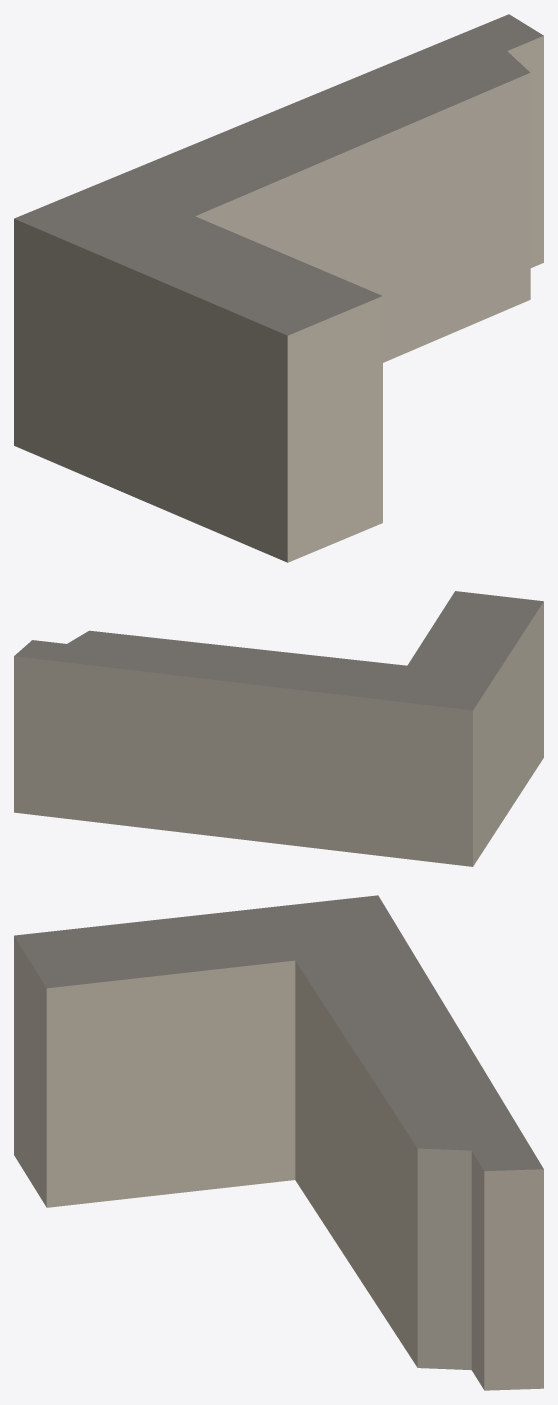
The picture shows the model from 3 angles, top to bottom: view 1: azimuth 30°, elevation 25°; view 2: azimuth 150°, elevation 25°; view 3: azimuth 270°, elevation 25°; orthographic projection. The views are drawn at different scales.
Parts seen in each view (by area): view 1: HP-w178406075; view 2: HP-w178406075; view 3: HP-w178406075.
Part boxes in pixels (x1,y1,x2,y2): HP-w178406075: (14,14,543,562); HP-w178406075: (14,591,543,866); HP-w178406075: (14,895,543,1390).
Bounding box in the file's own units: 48.52 × 18 × 39.39.
